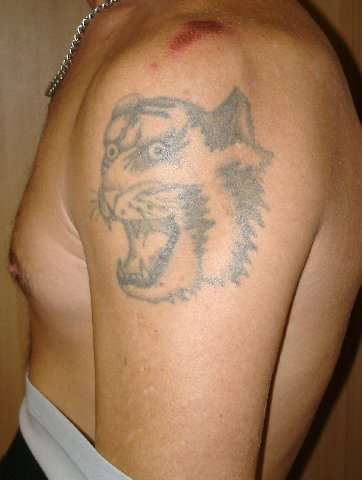tatu5_tigr: (90, 84, 276, 304)
